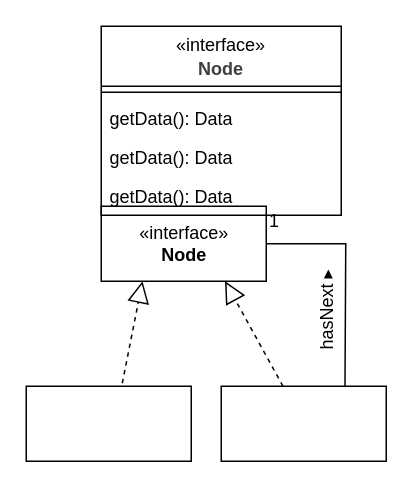
This 413x488 diagram has some shape labels left out. Each missing label, with the box of its shape:
EndNode: (25, 385, 191, 461)
InnerNode: (220, 385, 386, 461)
